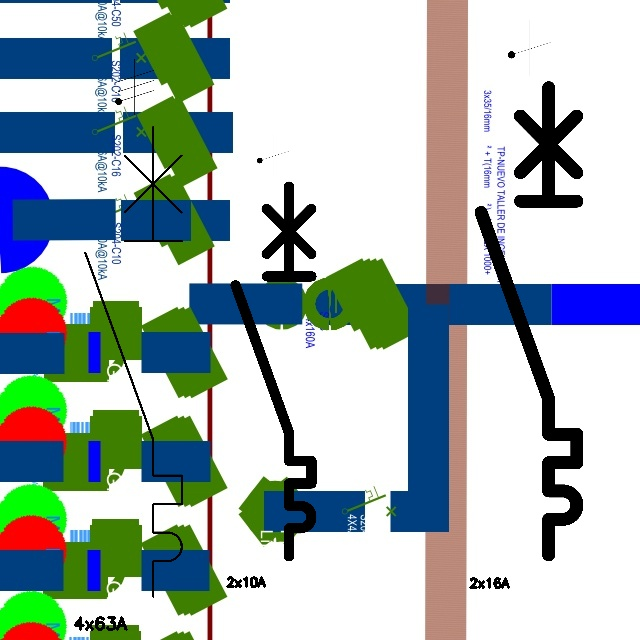interruptor_termomagnetico: (73, 114, 194, 608), (469, 75, 589, 566), (226, 176, 321, 565)
